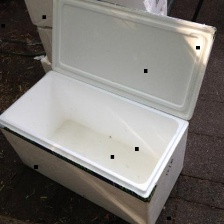foam_box: (0, 0, 217, 224)
